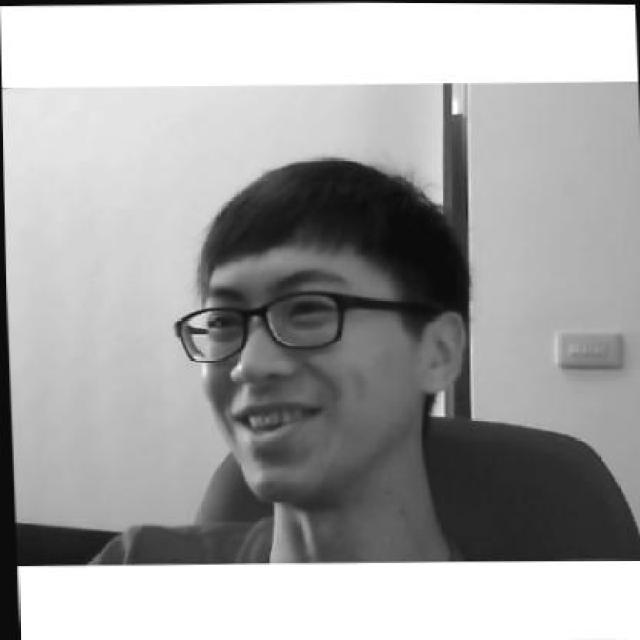attentif: (165, 148, 467, 502)
